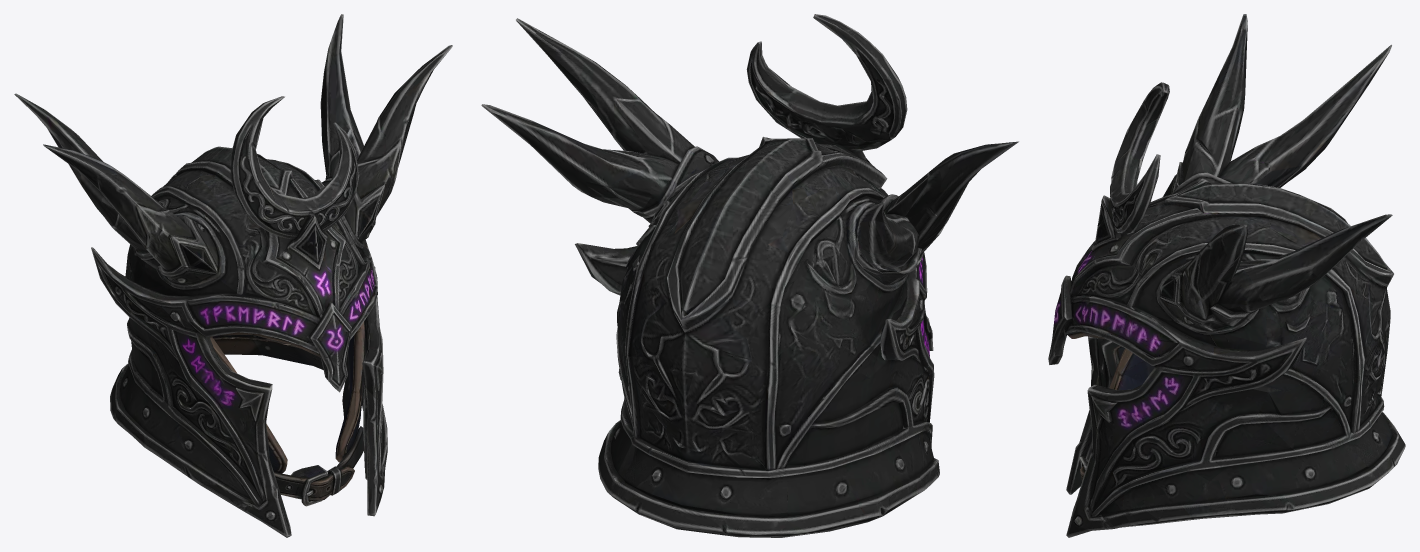
File: casque_ombre.glb
The picture shows the model from 3 angles, left to right: view 1: azimuth 30°, elevation 25°; view 2: azimuth 150°, elevation 25°; view 3: azimuth 270°, elevation 25°; orthographic projection. The views are drawn at different scales.
Bounding box in the file's own units: 1.9 × 1.77 × 1.35.
Materials: 1 (1 with a texture image).
